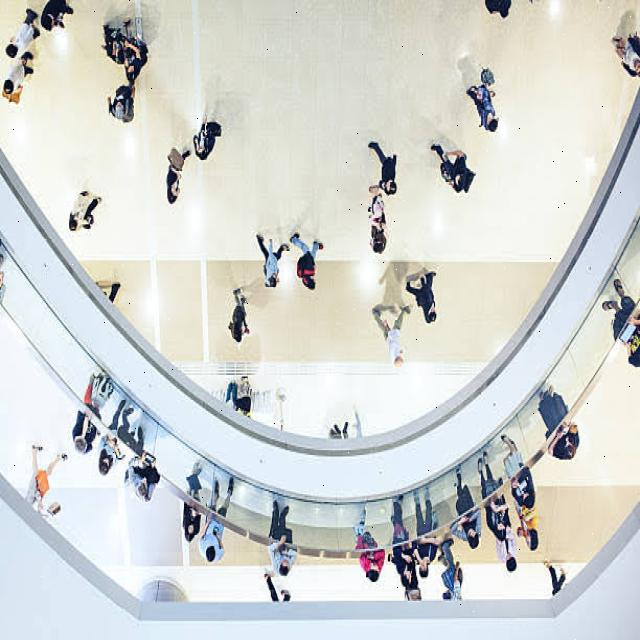humans: (596, 272, 640, 369), (540, 376, 582, 475), (199, 478, 239, 569), (66, 377, 106, 461), (23, 437, 74, 501), (371, 302, 412, 378), (126, 432, 168, 506), (413, 486, 445, 582), (451, 465, 483, 559), (429, 139, 478, 198), (97, 405, 133, 483), (504, 431, 536, 517), (463, 67, 503, 134), (175, 466, 206, 551), (354, 507, 384, 594), (290, 232, 329, 296), (270, 502, 302, 580), (391, 495, 416, 594), (404, 262, 439, 331), (254, 228, 292, 290), (486, 456, 510, 546), (226, 286, 260, 346), (4, 9, 41, 61), (372, 137, 403, 199), (64, 193, 107, 237), (2, 53, 38, 105), (162, 150, 192, 211), (441, 539, 467, 602), (105, 82, 138, 129), (612, 31, 640, 84), (38, 0, 76, 36), (194, 120, 222, 168), (123, 38, 150, 86), (102, 20, 129, 64), (369, 186, 392, 237), (365, 224, 390, 260)
